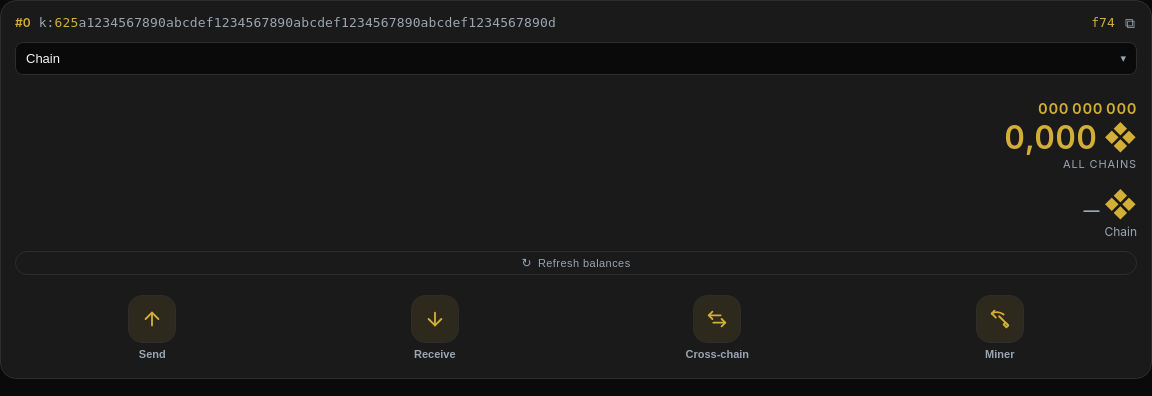
StoaTab › opens the Miner view when Miner is clicked
Expected: the element with test id "stoa-balance-hero" is shown, [1004,99,1137,171]
Click the button "Miner".
click(1000, 328)  # box [862,291,1137,364]
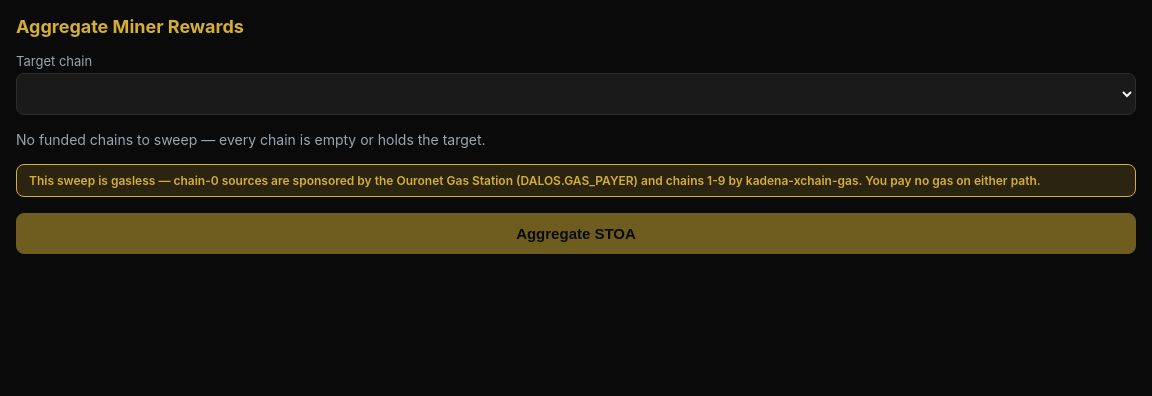
Result: the element with test id "stoa-subview" is shown
